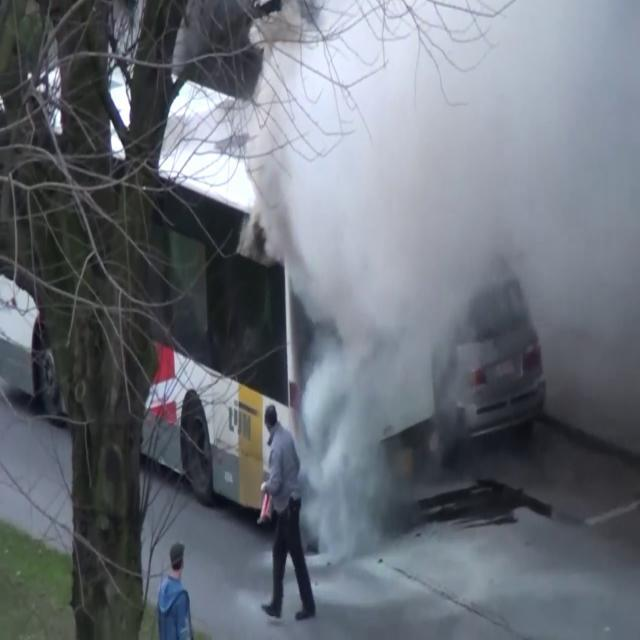Smoke: (244, 0, 640, 484)
